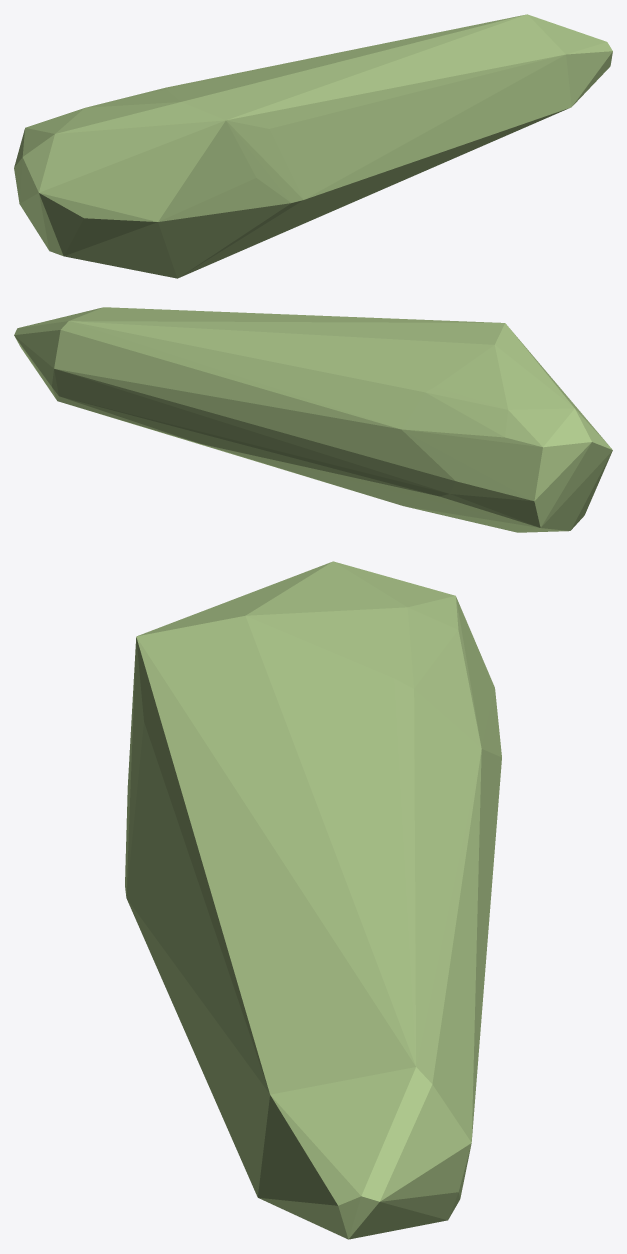
File: brakeSystem_brake_master_cylinder_a01.glb
The picture shows the model from 3 angles, top to bottom: view 1: azimuth 30°, elevation 25°; view 2: azimuth 150°, elevation 25°; view 3: azimuth 270°, elevation 25°; orthographic projection. The views are drawn at different scales.
Visible parts, largest first — view 1: geometry_0; view 2: geometry_0; view 3: geometry_0.
Boxes of the visible parts, x1,y1,x2,y2 form: geometry_0: (14, 14, 612, 278); geometry_0: (14, 307, 612, 532); geometry_0: (125, 561, 501, 1239).
Size of the model in its own units: 0.4797 by 0.1317 by 0.1357.
